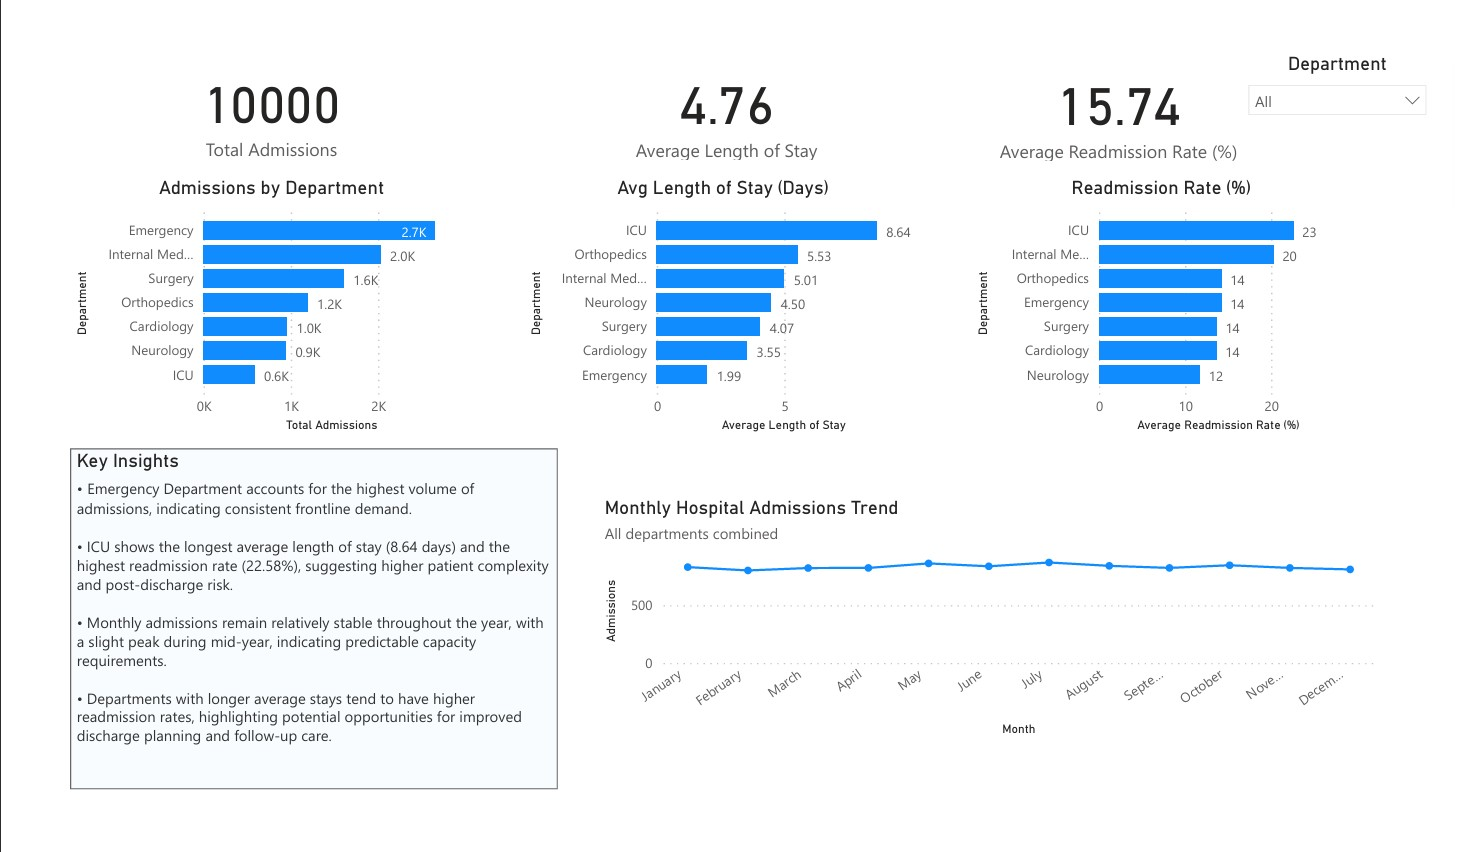

The dashboard page shown, as its layout file describes it:
{"tool":"powerbi","page":{"name":"Page 1","canvas":[1280,720],"ordinal":0},"visuals":[{"type":"card","fields":{"Values":["Measures (4).Total Admissions"]},"box":[110.1,25.5,217.8,104.3],"z":0},{"type":"card","fields":{"Values":["Measures (4).Average Length of Stay"]},"box":[512.2,30.1,230.6,96.2],"z":1},{"type":"card","fields":{"Values":["Measures (4).Average Readmission Rate (%)"]},"box":[864.4,31.3,230.6,96.2],"z":2},{"type":"clusteredBarChart","title":"Admissions by Department","fields":{"Category":["dim_department.department"],"Y":["Measures (4).Total Admissions"]},"box":[38.2,135.6,361.5,234.1],"z":3},{"type":"clusteredBarChart","title":"Avg Length of Stay (Days)","fields":{"Category":["dim_department.department"],"Y":["Measures (4).Average Length of Stay"]},"box":[446.1,135.6,355.7,234.1],"z":4},{"type":"lineChart","title":"Monthly Hospital Admissions Trend","fields":{"Category":["monthly_admissions.month.Variation.Date Hierarchy.Month"],"Y":["Sum(monthly_admissions.admissions)"]},"box":[513.3,422.9,701,220.2],"z":5},{"type":"clusteredBarChart","title":"Readmission Rate (%)","fields":{"Category":["dim_department.department"],"Y":["Measures (4).Average Readmission Rate (%)"]},"box":[847,135.6,340.7,234.1],"z":6},{"type":"slicer","title":"Department","fields":{"Values":["dim_department.department"]},"box":[1085.7,25.5,180.8,63.7],"z":7},{"type":"textbox","title":"Key Insights","box":[38.2,380.1,438,305.9],"z":8}]}

Visuals, with their boxes on the page's 1280x720 design canvas (x1, y1, x2, y2). These are canvas units, not pixel positions in the 1461x852 screenshot, which may show the page scaled, cropped or inside an application window:
card - Measures (4).Total Admissions: 110, 26, 328, 130
card - Measures (4).Average Length of Stay: 512, 30, 743, 126
card - Measures (4).Average Readmission Rate (%): 864, 31, 1095, 128
"Admissions by Department" clusteredBarChart: 38, 136, 400, 370
"Avg Length of Stay (Days)" clusteredBarChart: 446, 136, 802, 370
"Monthly Hospital Admissions Trend" lineChart: 513, 423, 1214, 643
"Readmission Rate (%)" clusteredBarChart: 847, 136, 1188, 370
"Department" slicer: 1086, 26, 1266, 89
"Key Insights" textbox: 38, 380, 476, 686
